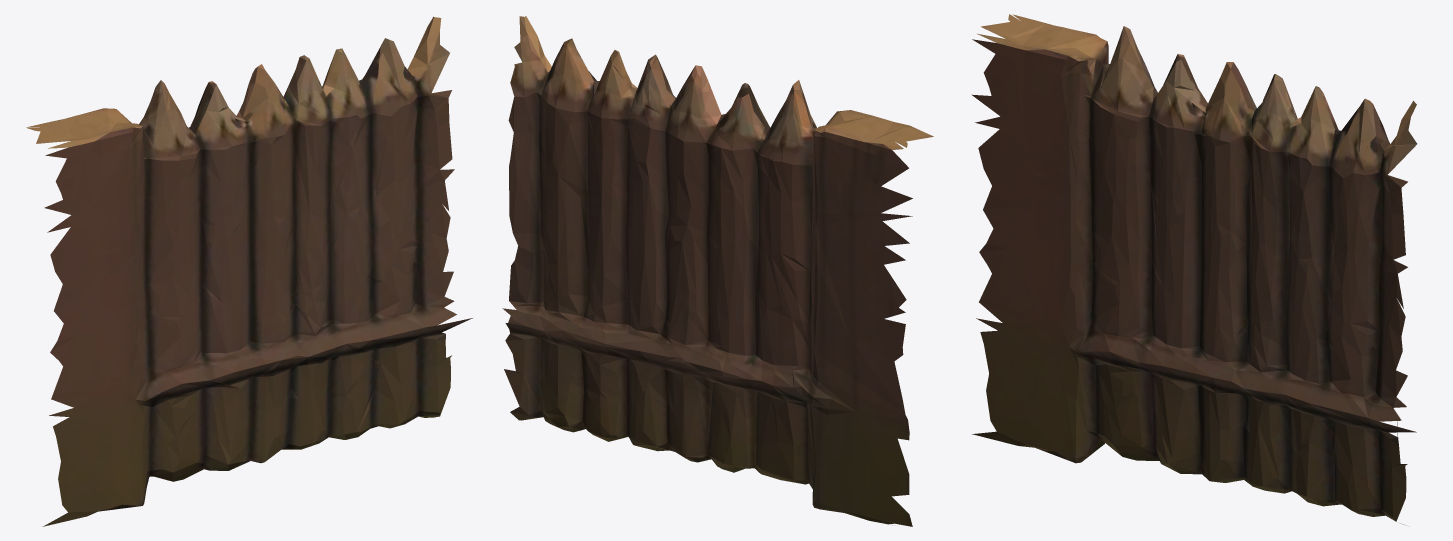
The model's file is palisade.glb.
The picture shows the model from 3 angles, left to right: view 1: azimuth 30°, elevation 25°; view 2: azimuth 150°, elevation 25°; view 3: azimuth 330°, elevation 25°; orthographic projection. The views are drawn at different scales.
Visible parts, largest first — view 1: palisade; view 2: palisade; view 3: palisade.
Part boxes in pixels (left/top/right/bottom): palisade: left=26, top=16, right=472, bottom=526; palisade: left=502, top=16, right=933, bottom=526; palisade: left=971, top=14, right=1417, bottom=525.
Bounding box in the file's own units: 1 × 0.9188 × 0.1556.
1 material, 1 textured.
